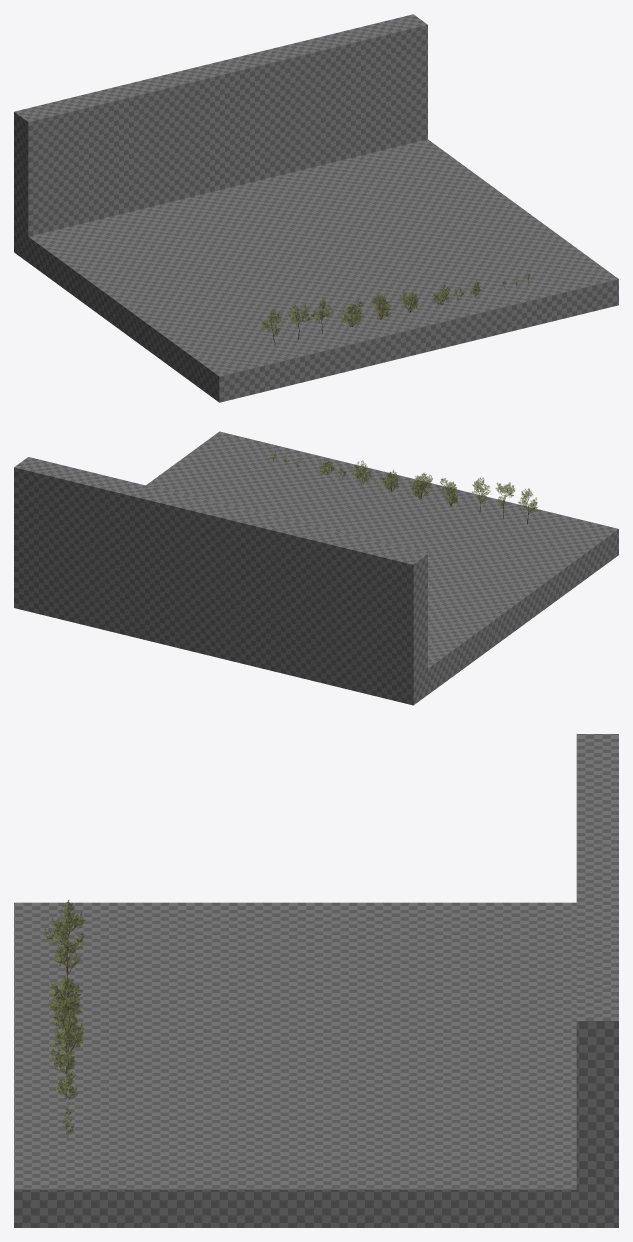
The model's file is bush_1.glb.
3 views of the same model, one above another, from view 1: azimuth 30°, elevation 25°; view 2: azimuth 150°, elevation 25°; view 3: azimuth 270°, elevation 25° (orthographic). The views are drawn at different scales.
Visible parts, largest first — view 1: Plane; view 2: Plane; view 3: Plane, Lilac_bush_2_LOD0.
Part boxes in pixels (x1=…): Plane: x1=14, y1=14, x2=618, y2=402; Plane: x1=14, y1=431, x2=618, y2=705; Plane: x1=14, y1=734, x2=618, y2=1227; Lilac_bush_2_LOD0: x1=48, y1=993, x2=82, y2=1031.
Size of what is drawn, in the model's own units: 80 by 26.91 by 71.28.
Materials: 3 (3 with a texture image).
